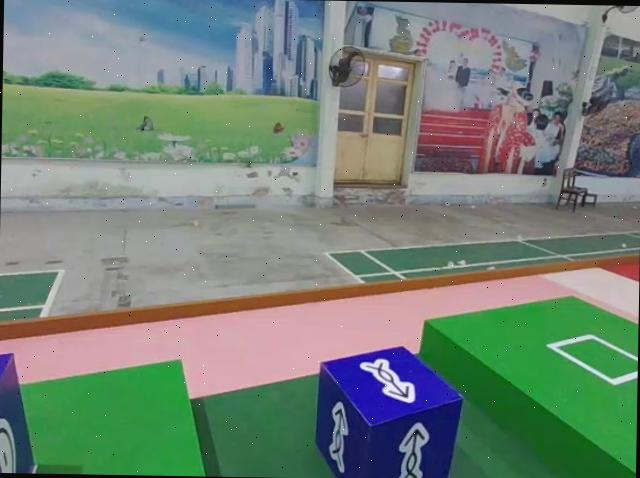R2 Real Blue: (313, 341, 463, 478), (0, 355, 37, 473)
